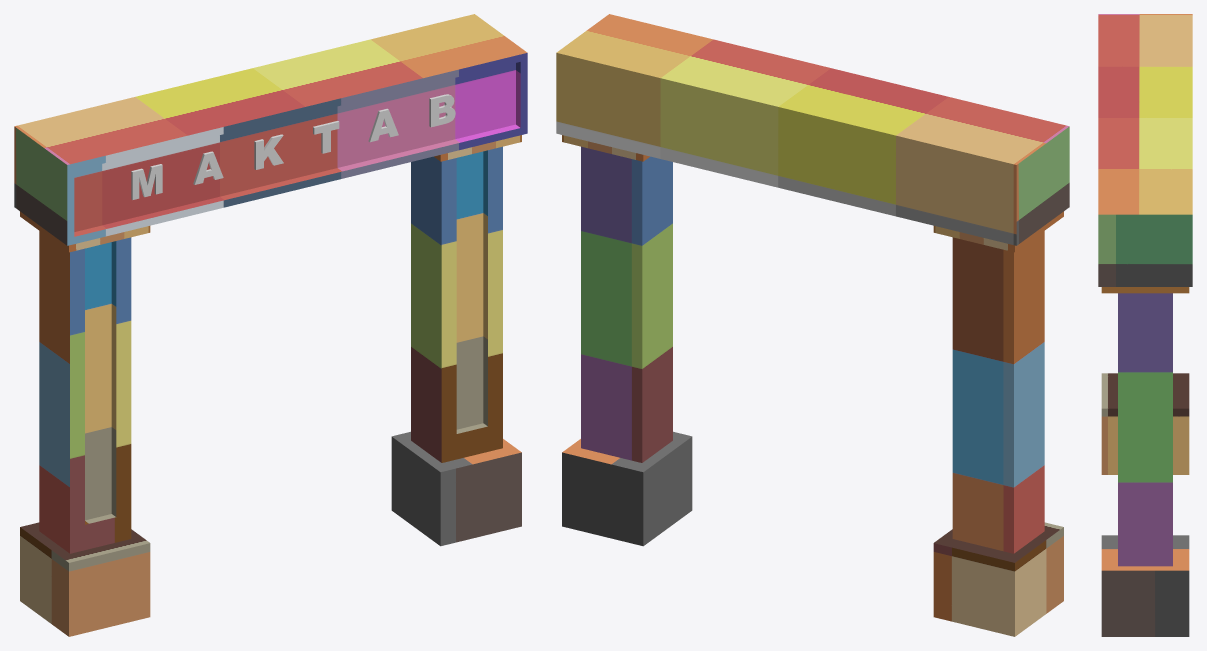
Rendered from street_construction_arc_school.FBX.
The picture shows the model from 3 angles, left to right: view 1: azimuth 30°, elevation 25°; view 2: azimuth 150°, elevation 25°; view 3: azimuth 270°, elevation 25°; orthographic projection. The views are drawn at different scales.
Visible parts, largest first — view 1: street_construction_arc_mahalla, street_construction_arc_school_text; view 2: street_construction_arc_mahalla; view 3: street_construction_arc_mahalla.
Boxes of the visible parts, box(x1,y1,x2,y2) form: street_construction_arc_mahalla: box(14, 14, 527, 636); street_construction_arc_school_text: box(131, 94, 455, 199); street_construction_arc_mahalla: box(556, 14, 1069, 636); street_construction_arc_mahalla: box(1098, 14, 1192, 636).
Size of the model in its own units: 455 by 448 by 90.72.
